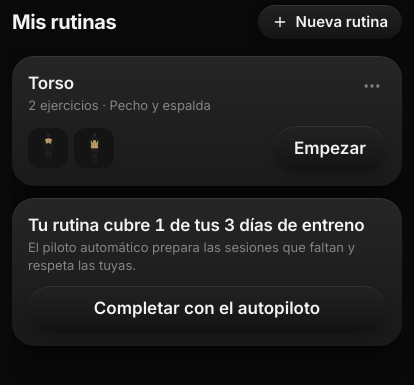
Test case: Mis rutinas › «Completar con el autopiloto»: en singular con una rutina y, si falla, el aviso con «Reintentar»
Expected: the text "Tu rutina cubre 1 de tus 3 días de entreno" is shown, [28,214,386,236]
Click the button "Completar con el autopiloto" at (207, 308), box [28,286,386,330]
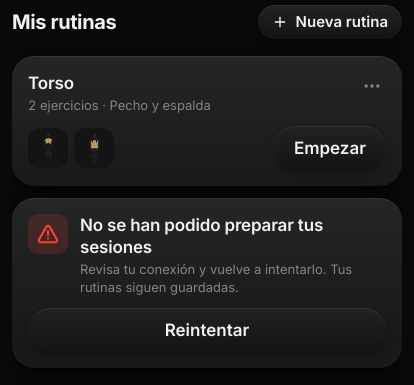
Expected: the message shows "No se han podido preparar tus sesiones", [80,215,323,257]
Expected: the message shows "Tus rutinas siguen guardadas.", [80,261,352,295]
Click the button "Reintentar" at (207, 330), box [28,308,386,352]
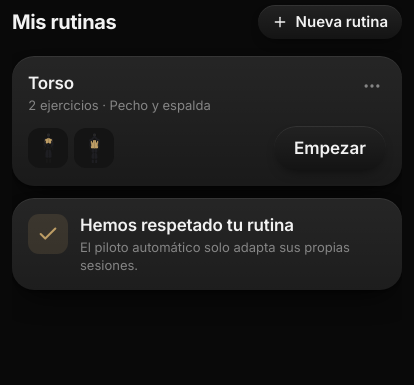
Expected: the message shows "Hemos respetado tu rutina", [80,215,294,235]
